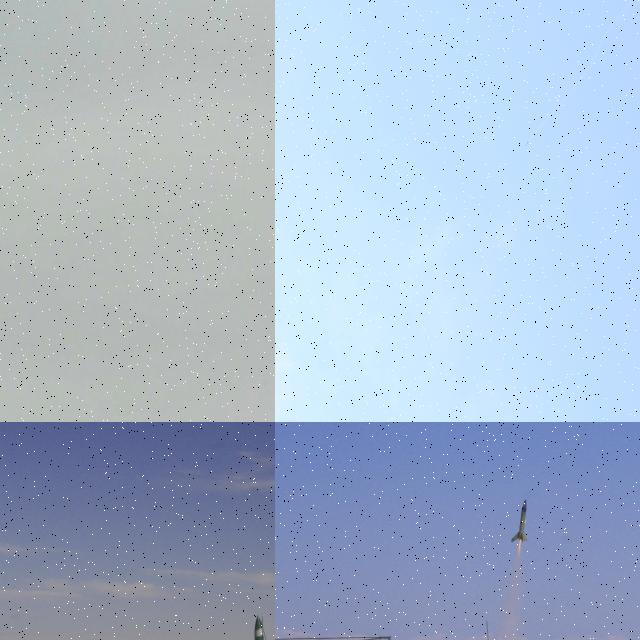Rocket: (509, 498, 531, 544), (249, 614, 274, 640), (525, 141, 529, 147)
